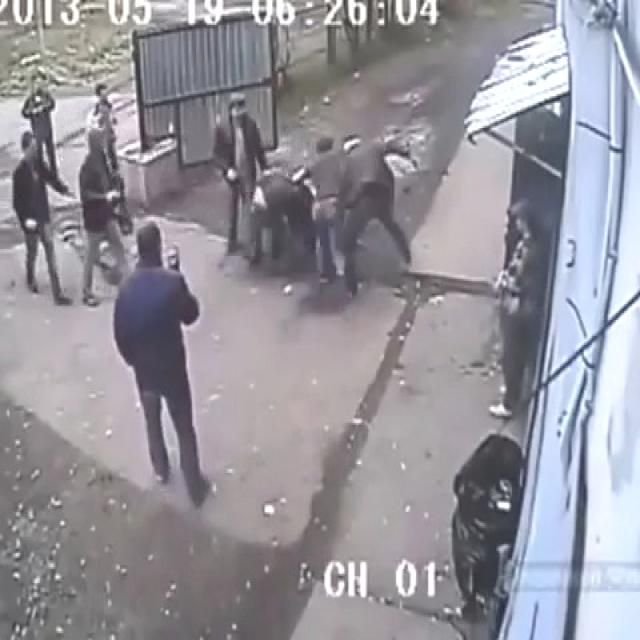fight: (306, 128, 413, 298), (252, 127, 344, 284)
